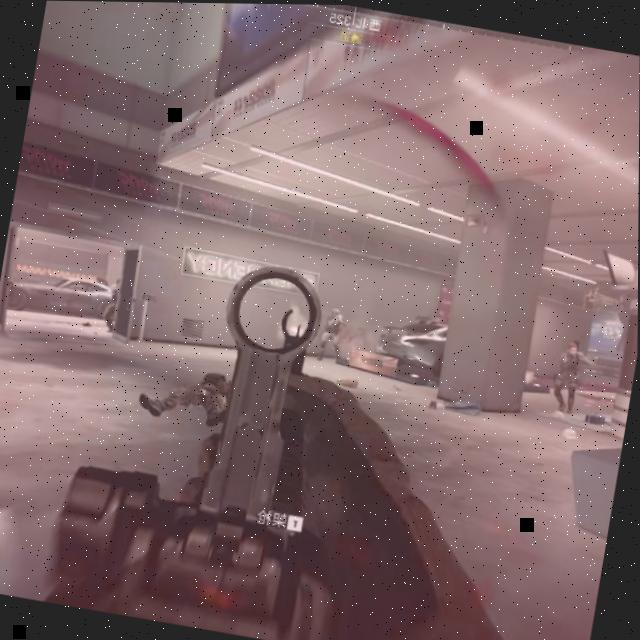MW2_body: (551, 338, 596, 415), (316, 306, 350, 363)
